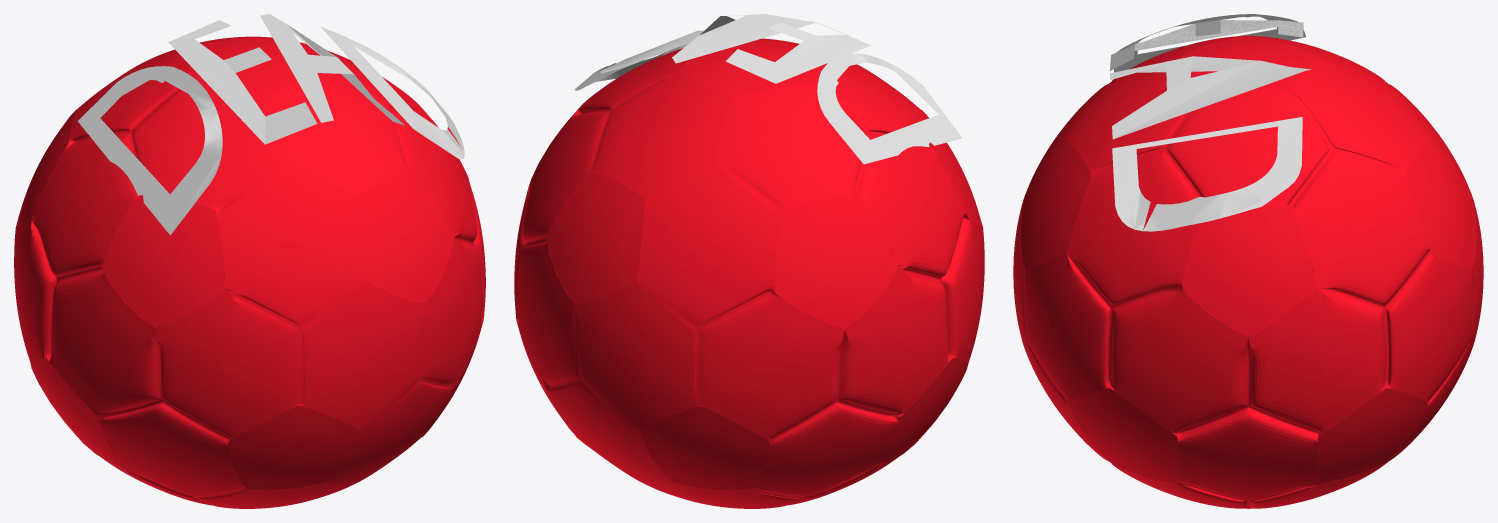
The model's file is Ball.fbx.
3 views of the same model, side by side, from view 1: azimuth 30°, elevation 25°; view 2: azimuth 150°, elevation 25°; view 3: azimuth 270°, elevation 25° (orthographic).
Visible parts, largest first — view 1: Icosphere, Text; view 2: Icosphere, Text; view 3: Icosphere, Text.
Part boxes in pixels (left/top/right/bottom): Icosphere: left=14, top=36, right=485, bottom=508; Text: left=77, top=14, right=464, bottom=235; Icosphere: left=514, top=38, right=984, bottom=508; Text: left=575, top=14, right=962, bottom=164; Icosphere: left=1013, top=35, right=1483, bottom=508; Text: left=1109, top=14, right=1311, bottom=231.
Bounding box in the file's own units: 184 × 194 × 183.
